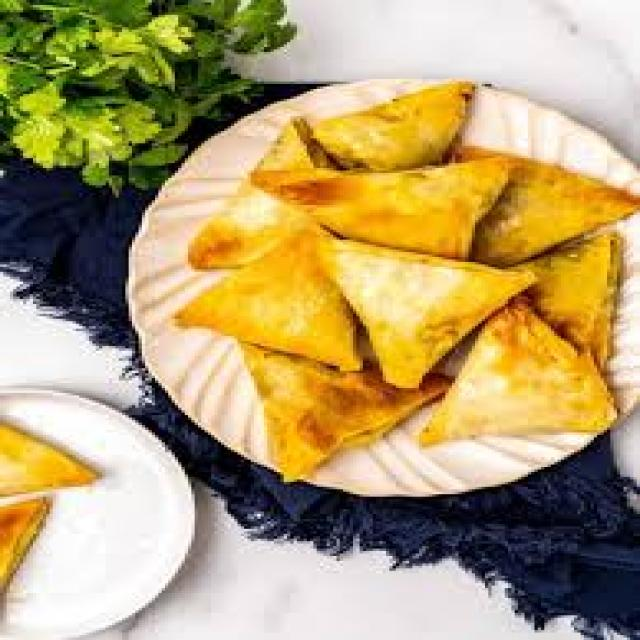SAMOSA: (320, 240, 531, 385), (422, 301, 614, 442), (247, 346, 445, 477), (178, 227, 356, 368), (280, 161, 505, 257), (472, 158, 637, 259), (310, 84, 472, 166), (525, 232, 617, 366), (191, 195, 313, 267)
